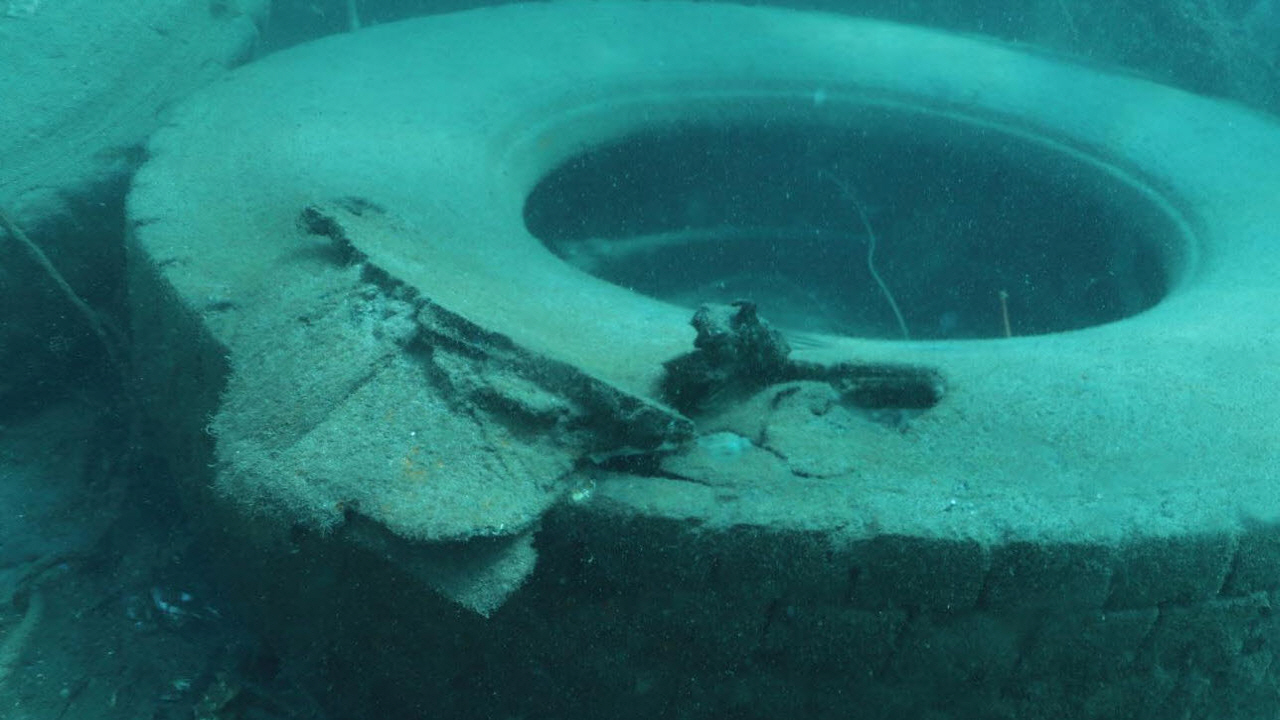tire: (125, 0, 1280, 720)
